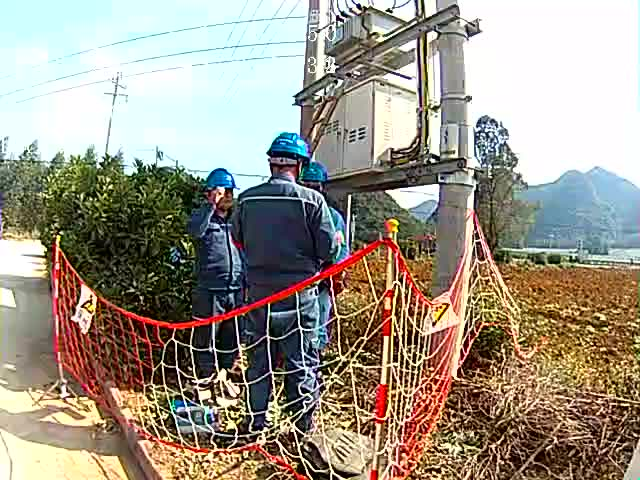halt: (267, 135, 313, 181), (206, 171, 241, 216)
